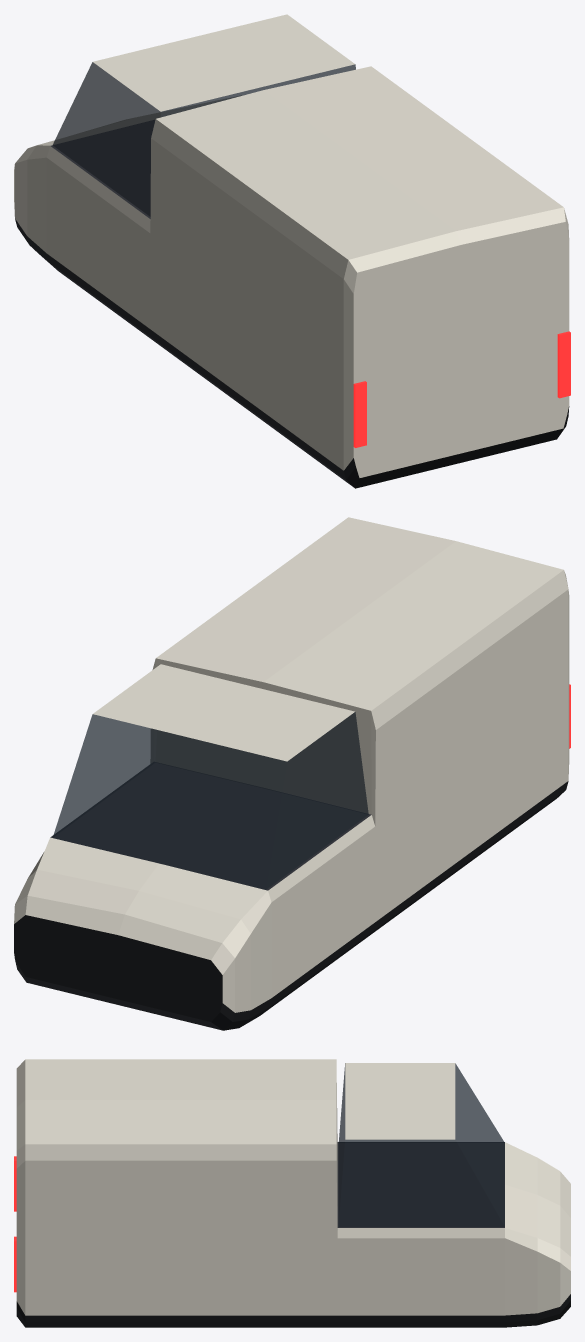
Rendered from van_lod.glb.
3 views of the same model, one above another, from view 1: azimuth 30°, elevation 25°; view 2: azimuth 150°, elevation 25°; view 3: azimuth 270°, elevation 25° (orthographic). The views are drawn at different scales.
Parts seen in each view (by area): view 1: Body; view 2: Body; view 3: Body.
Boxes of the visible parts, x1,y1,x2,y2 form: Body: [14, 14, 570, 488]; Body: [14, 517, 570, 1030]; Body: [14, 1059, 570, 1327].
Bounding box in the file's own units: 1.94 × 1.92 × 5.15.
